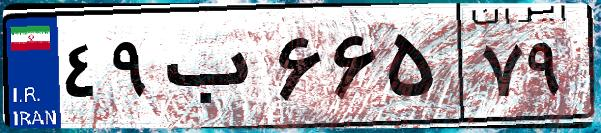4: (57, 26, 110, 100)
5: (385, 28, 445, 110)
6: (270, 28, 330, 110), (330, 28, 385, 110)
7: (475, 38, 525, 113)
9: (525, 38, 570, 115), (110, 28, 158, 98)
ب: (158, 20, 270, 120)
